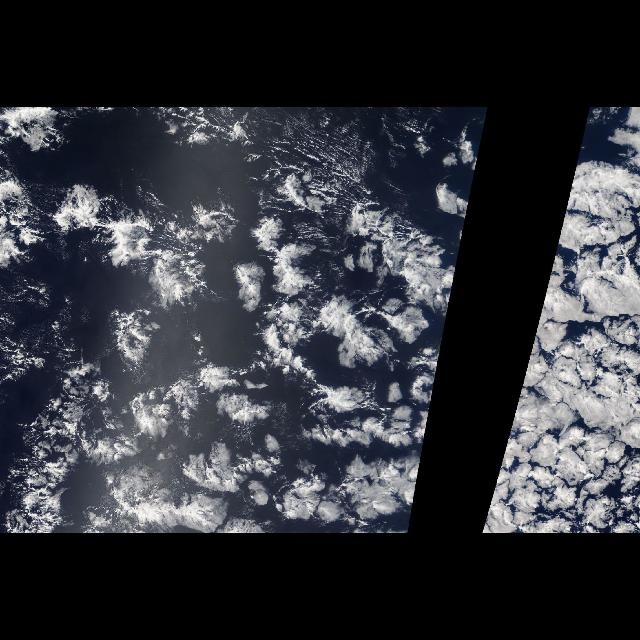Flower: (17, 147, 480, 513), (485, 147, 639, 513)
